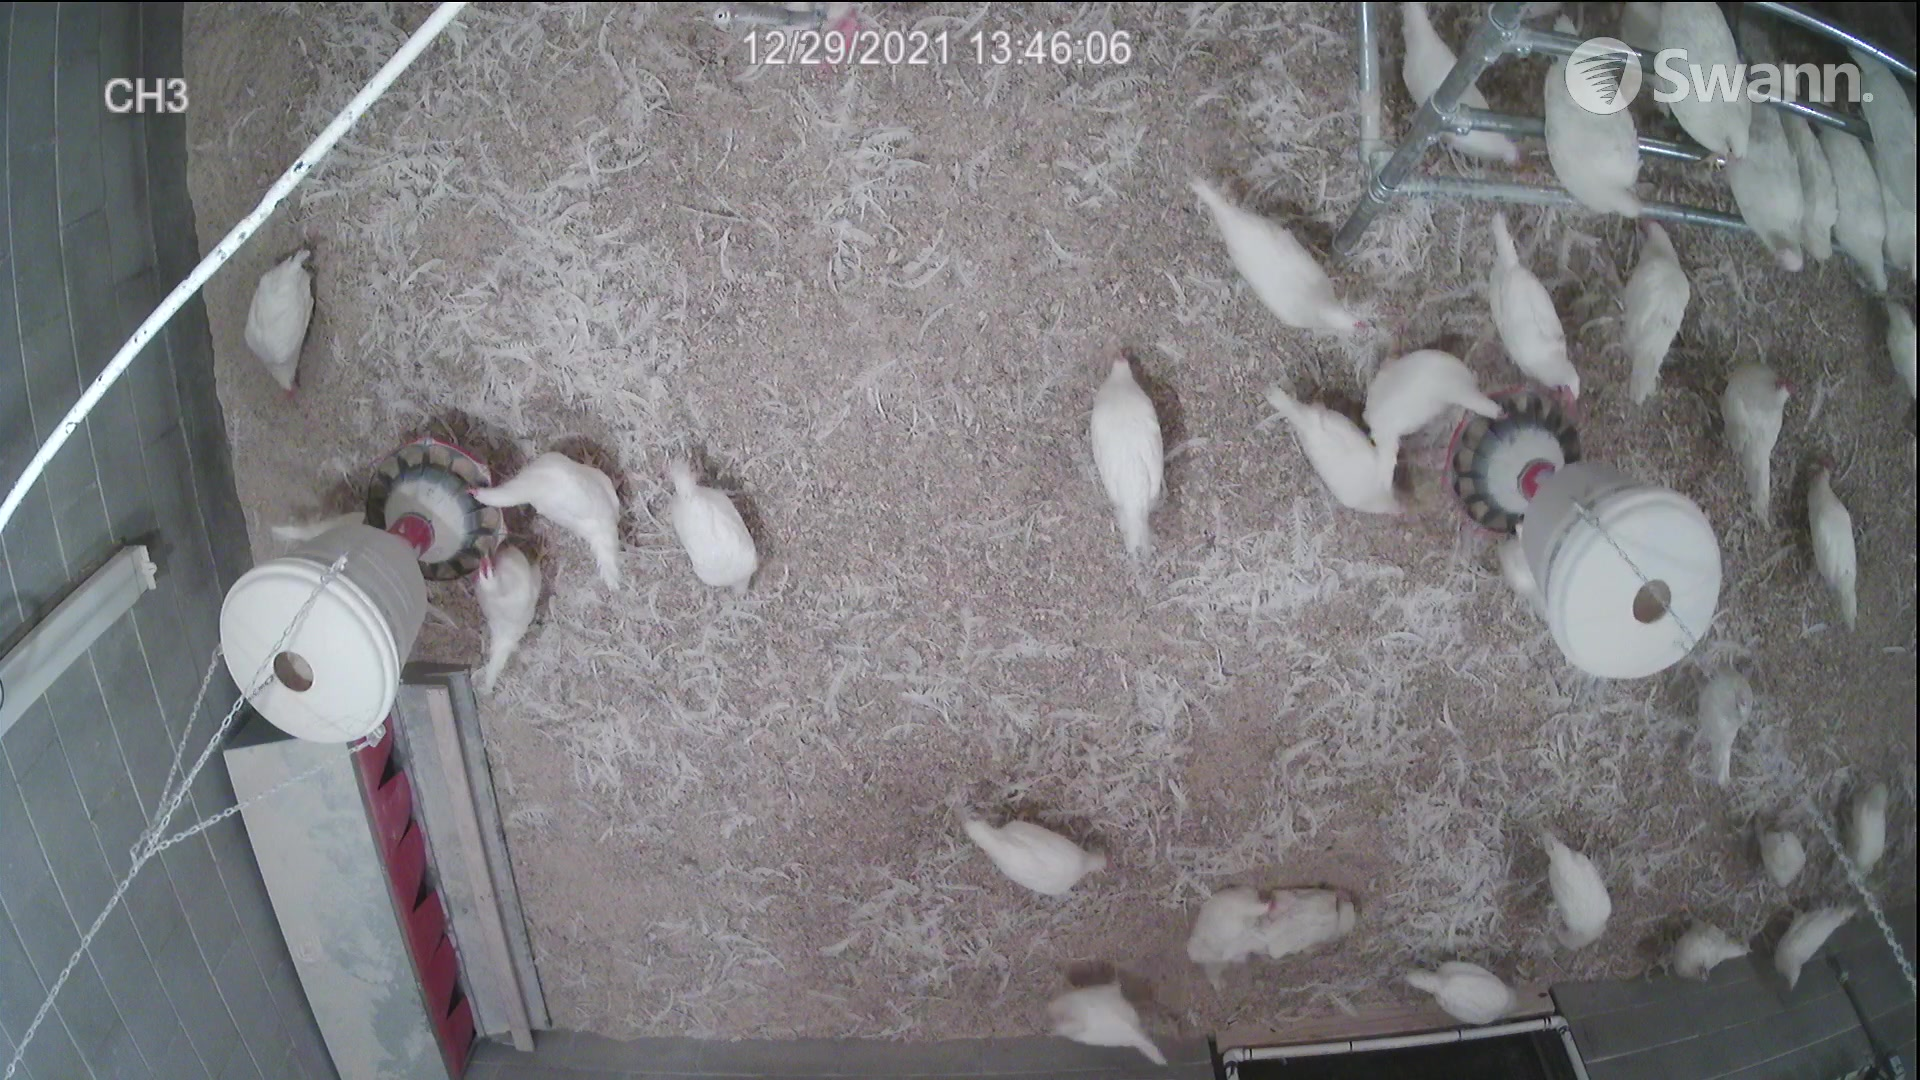Dust Bathing: (1270, 872, 1361, 975), (1185, 873, 1265, 972)
Feeding: (465, 448, 640, 589), (1485, 222, 1581, 407), (1365, 353, 1506, 454)
Foraging: (1087, 349, 1160, 564), (236, 251, 349, 382), (956, 818, 1126, 895), (673, 463, 760, 593), (1815, 465, 1874, 632)
Perching: (1543, 33, 1651, 208), (1836, 17, 1920, 214), (1759, 108, 1841, 277), (1727, 105, 1812, 257), (1655, 15, 1750, 142), (1811, 128, 1887, 286)
Preening: (1528, 828, 1622, 963)
